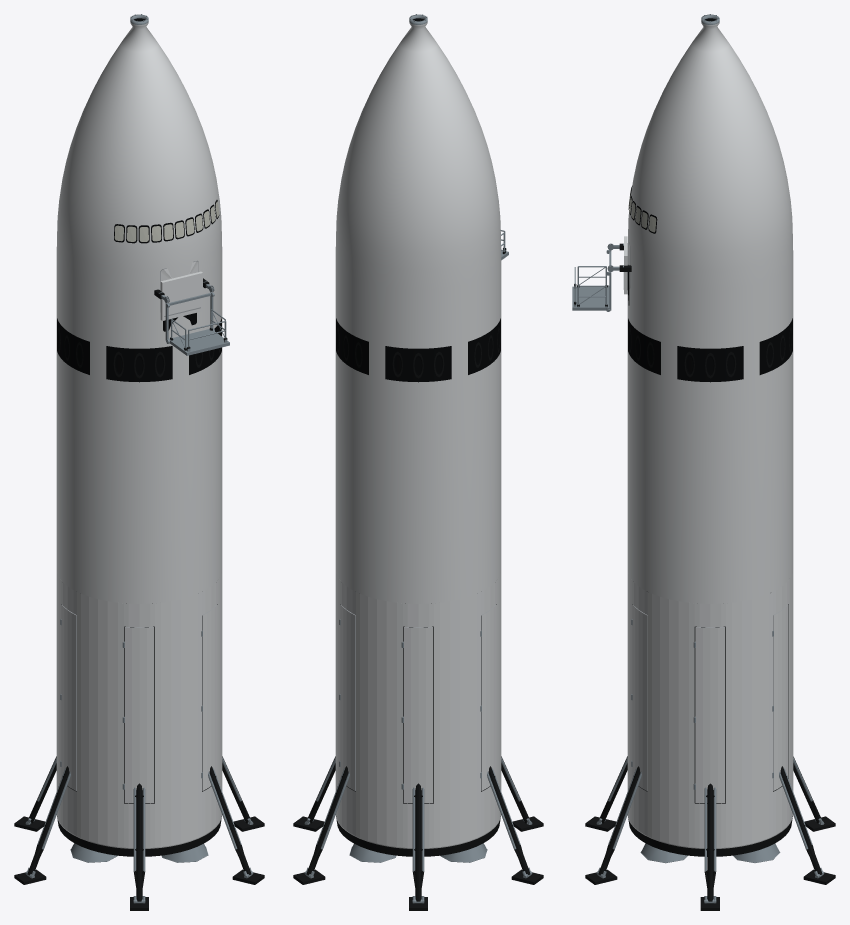
File: hlsFar.glb
3 views of the same model, side by side, from view 1: azimuth 30°, elevation 25°; view 2: azimuth 150°, elevation 25°; view 3: azimuth 270°, elevation 25° (orthographic).
Visible parts, largest first — view 1: hull, doorMesh_4, thrusters, doorMesh_3, doorMesh_5, hoistHousing, legMesh_4, engineBay, elevatorBasket, legMesh_3, legMesh_5; view 2: hull, doorMesh_2, thrusters, doorMesh_1, doorMesh_3, legMesh_2, engineBay, legMesh_1, legMesh_3; view 3: hull, doorMesh_0, thrusters, doorMesh_5, doorMesh_1, legMesh_0, engineBay, legMesh_5, legMesh_1, elevatorBasket.
Part boxes in pixels (x1=…): hull: x1=56, y1=14, x2=222, y2=856; doorMesh_4: x1=124, y1=627, x2=154, y2=803; thrusters: x1=57, y1=318, x2=221, y2=382; doorMesh_3: x1=61, y1=604, x2=76, y2=790; doorMesh_5: x1=202, y1=604, x2=217, y2=790; hoistHousing: x1=154, y1=271, x2=209, y2=320; legMesh_4: x1=133, y1=783, x2=145, y2=902; engineBay: x1=70, y1=843, x2=208, y2=862; elevatorBasket: x1=169, y1=328, x2=229, y2=355; legMesh_3: x1=25, y1=766, x2=70, y2=878; legMesh_5: x1=208, y1=766, x2=253, y2=878; hull: x1=335, y1=14, x2=501, y2=856; doorMesh_2: x1=403, y1=627, x2=433, y2=803; thrusters: x1=336, y1=318, x2=500, y2=382; doorMesh_1: x1=340, y1=604, x2=355, y2=790; doorMesh_3: x1=481, y1=604, x2=496, y2=790; legMesh_2: x1=412, y1=783, x2=424, y2=902; engineBay: x1=349, y1=843, x2=487, y2=862; legMesh_1: x1=304, y1=766, x2=349, y2=878; legMesh_3: x1=487, y1=766, x2=532, y2=878; hull: x1=627, y1=14, x2=793, y2=856; doorMesh_0: x1=695, y1=627, x2=725, y2=803; thrusters: x1=628, y1=318, x2=792, y2=382; doorMesh_5: x1=632, y1=604, x2=647, y2=790; doorMesh_1: x1=773, y1=605, x2=788, y2=790; legMesh_0: x1=704, y1=783, x2=716, y2=903; engineBay: x1=640, y1=803, x2=780, y2=863; legMesh_5: x1=596, y1=766, x2=641, y2=878; legMesh_1: x1=779, y1=766, x2=824, y2=878; elevatorBasket: x1=572, y1=284, x2=609, y2=310.
Size of the model in its own units: 15.1 by 50.04 by 14.3.
Materials: 1 (1 with a texture image).
